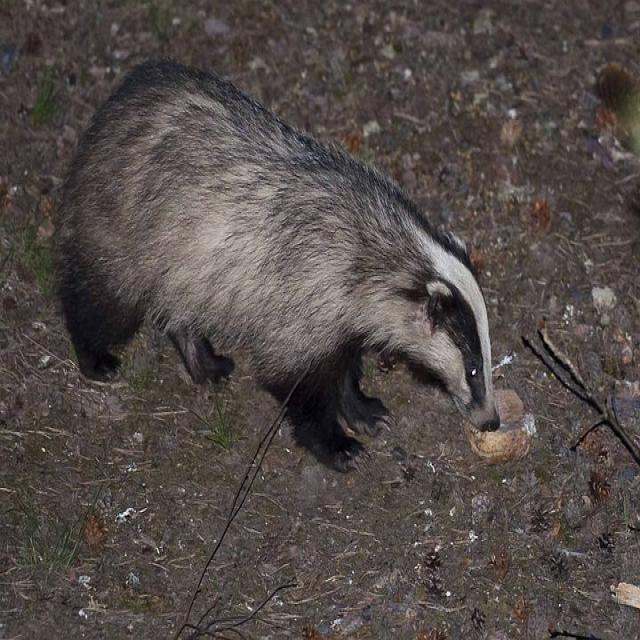badger: (51, 57, 503, 475)
